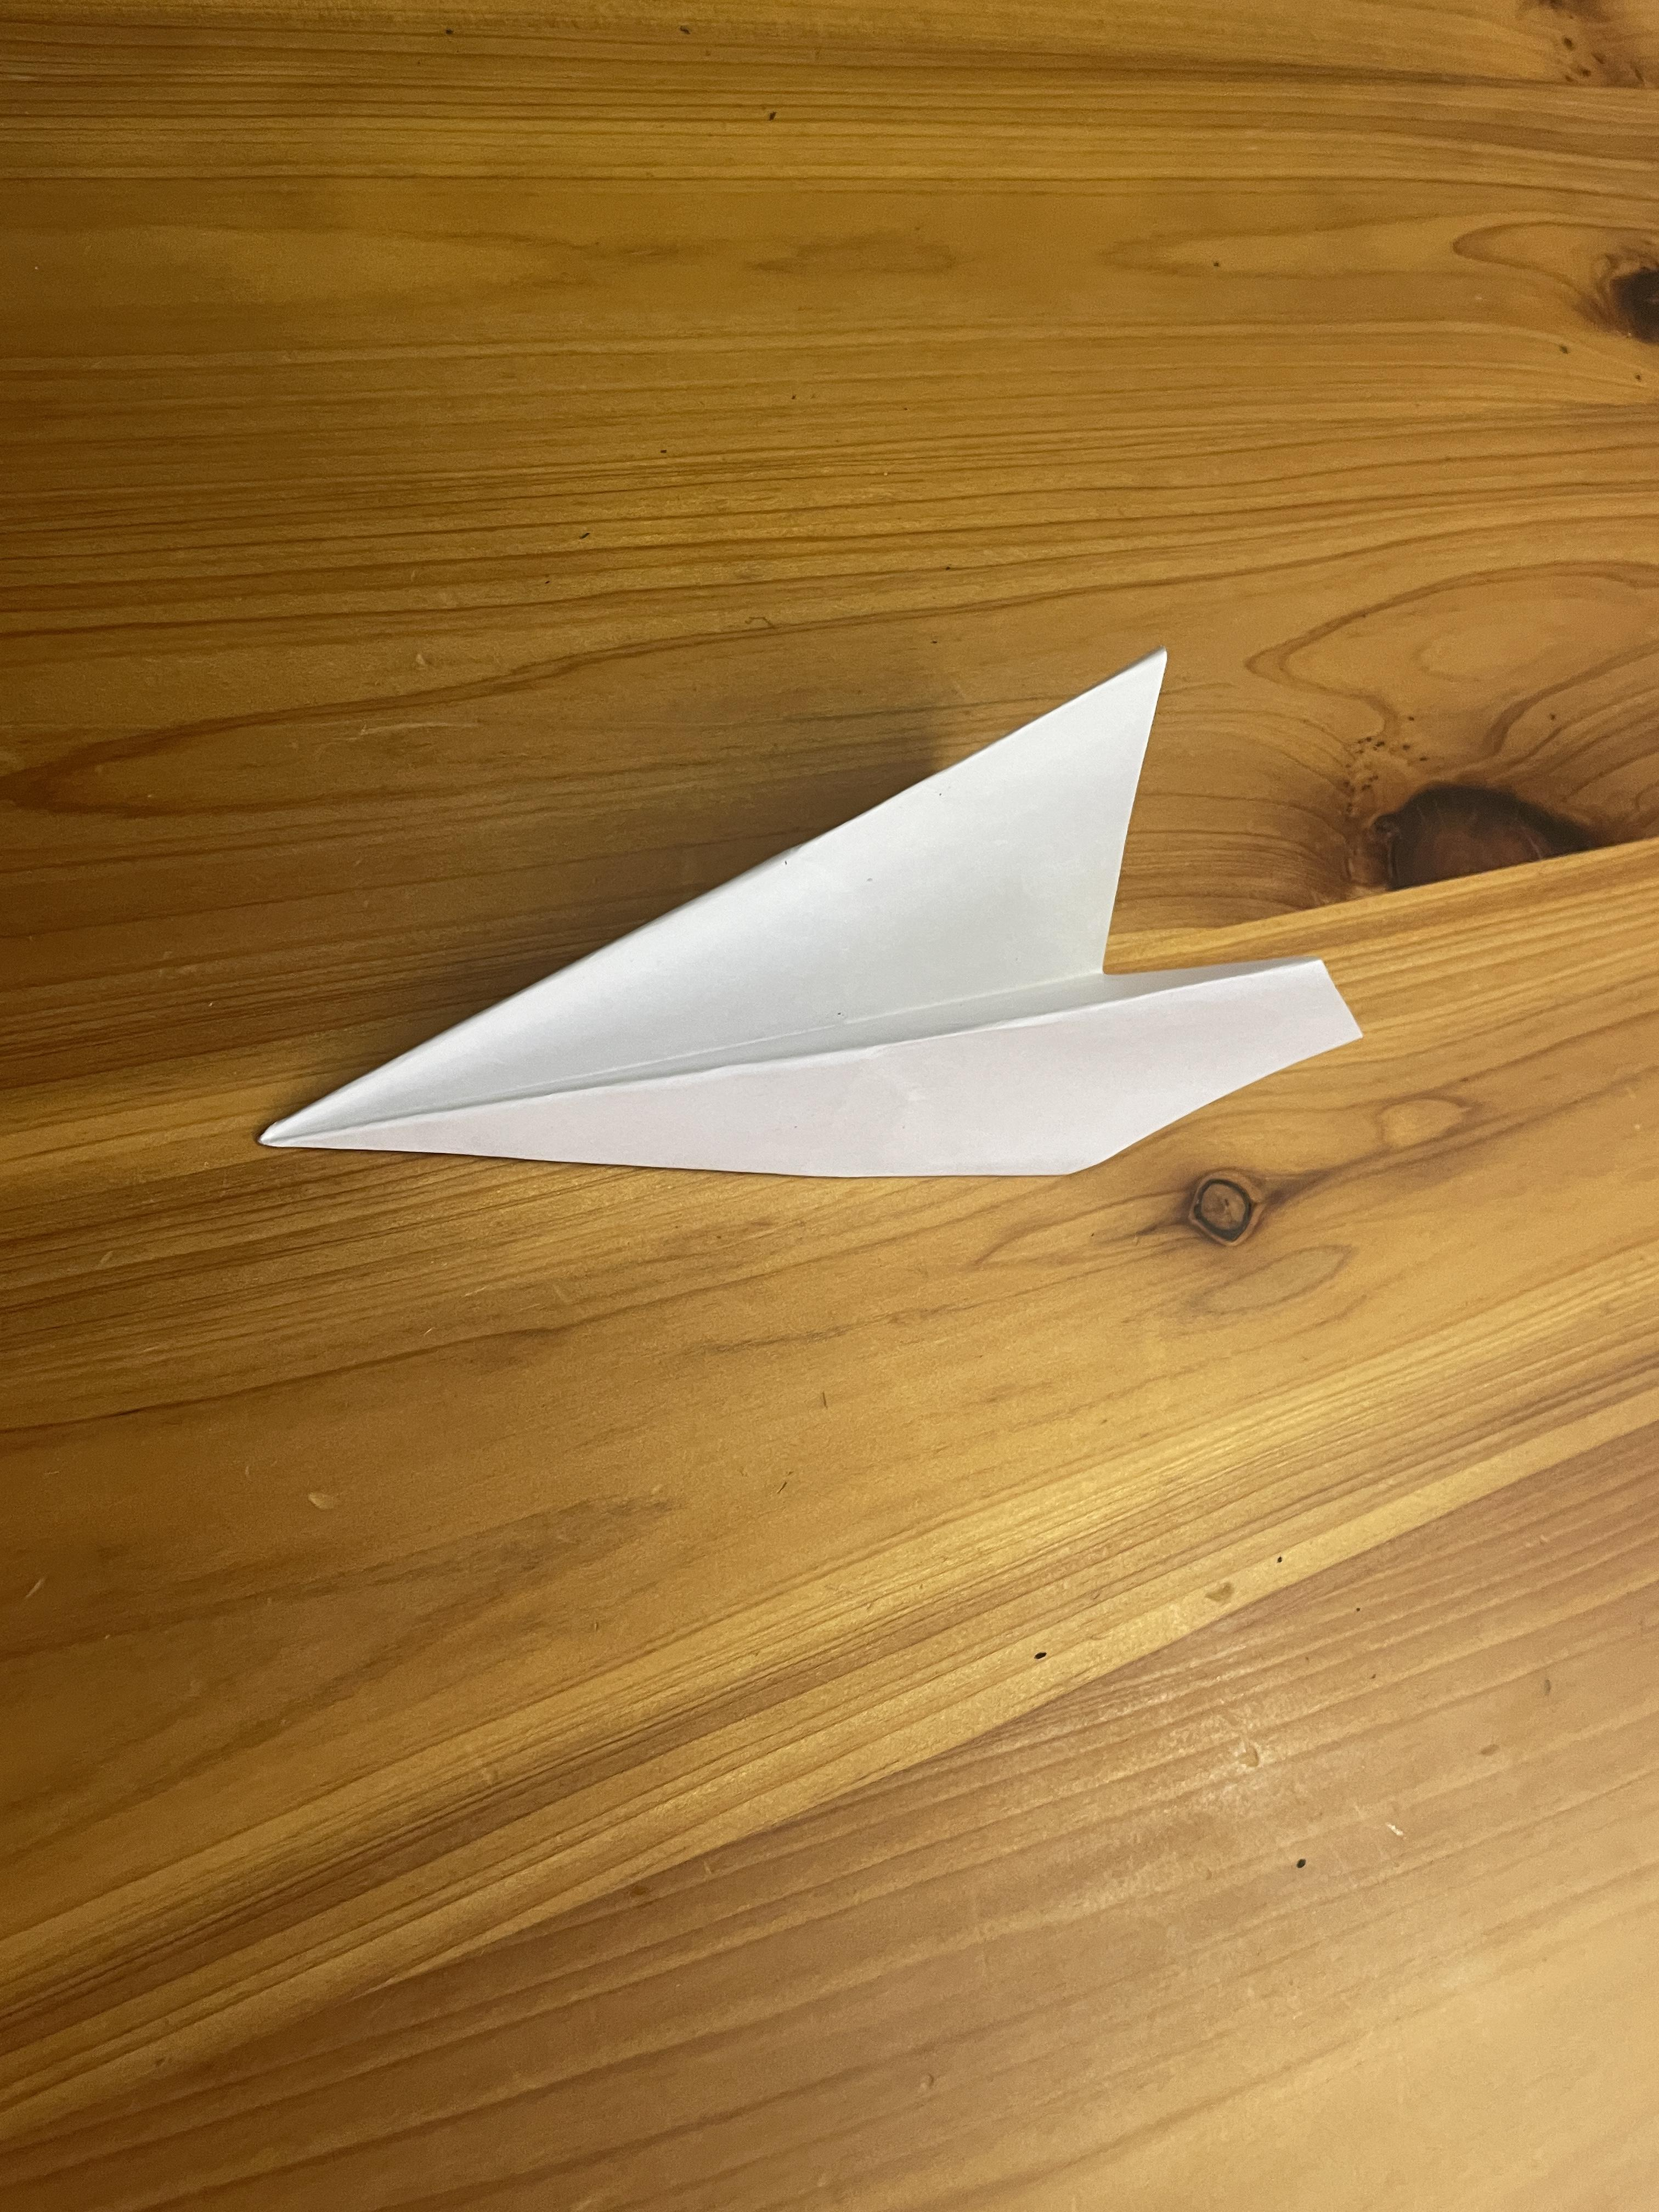shape_3: (120, 484, 1628, 1414)
